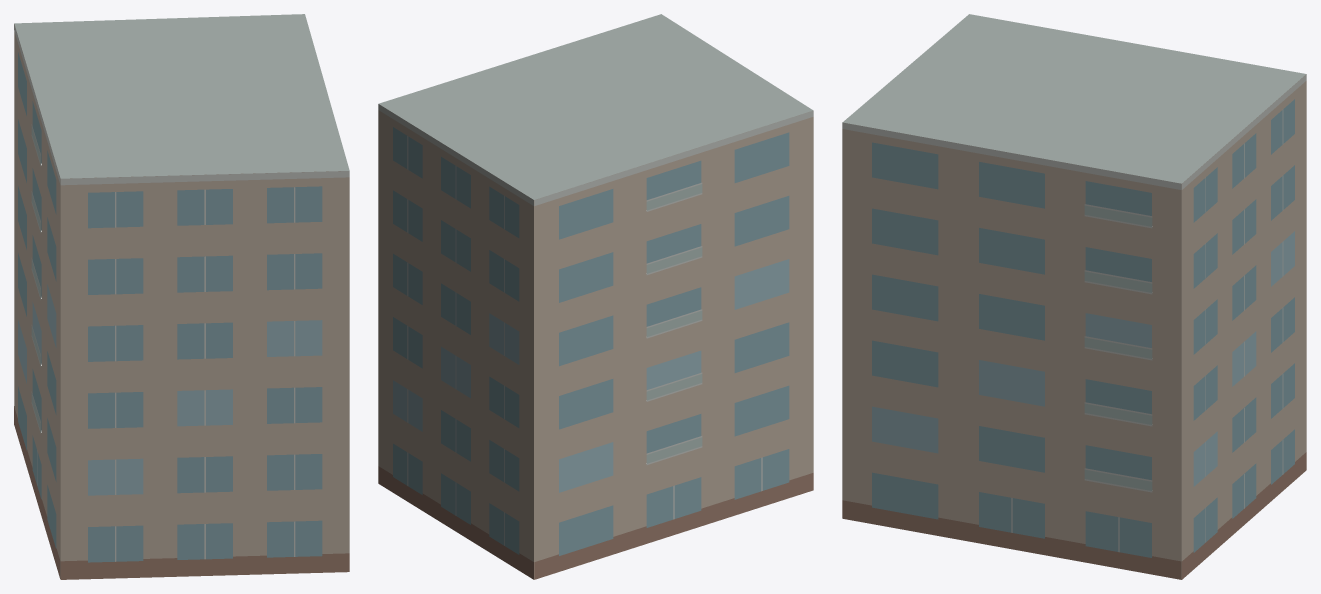
Rendered from survey-upis-32878344.glb.
The picture shows the model from 3 angles, left to right: view 1: azimuth 30°, elevation 25°; view 2: azimuth 150°, elevation 25°; view 3: azimuth 270°, elevation 25°; orthographic projection. The views are drawn at different scales.
Visible parts, largest first — view 1: survey-upis-32878344.tmp; view 2: survey-upis-32878344.tmp; view 3: survey-upis-32878344.tmp.
Part boxes in pixels (box(x1,y1,x2,y2)): survey-upis-32878344.tmp: box(14, 14, 349, 579); survey-upis-32878344.tmp: box(378, 14, 813, 579); survey-upis-32878344.tmp: box(842, 14, 1306, 579).
Size of the model in its own units: 13.69 by 14.9 by 15.83.
